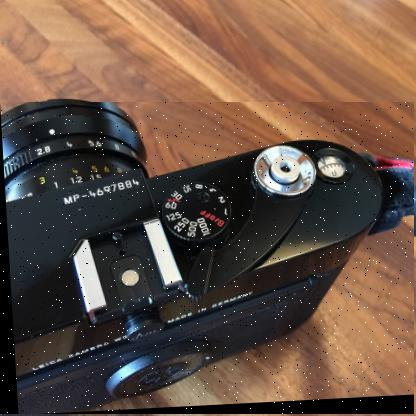Camera: (1, 103, 416, 416)
